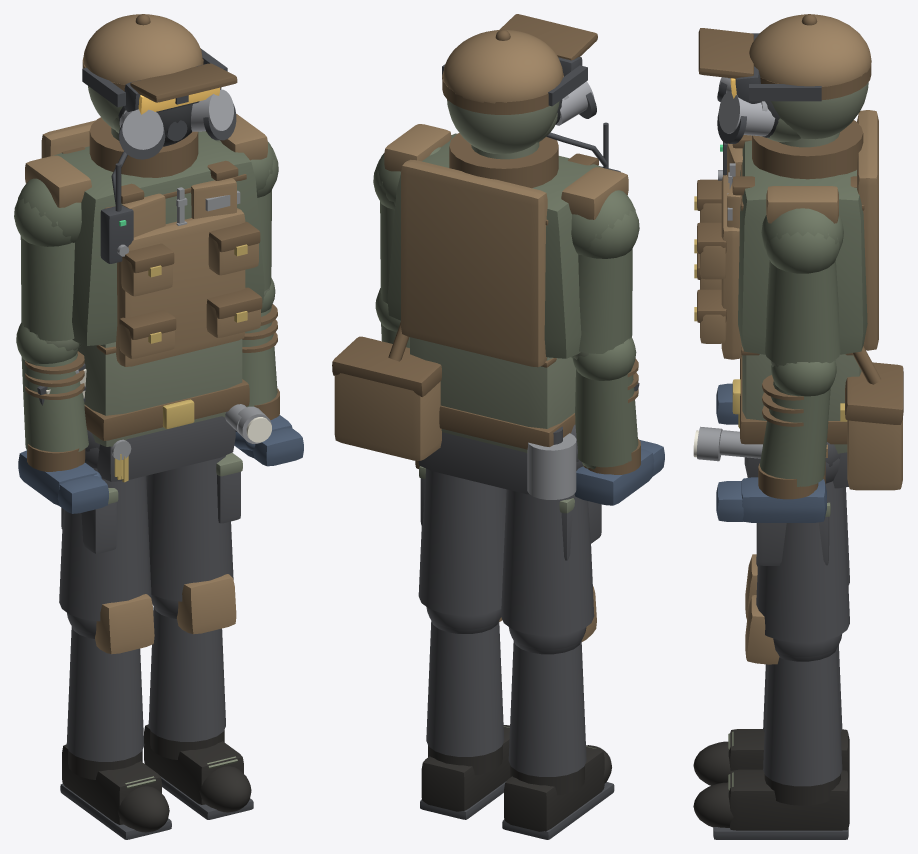
File: CH_trader_npc.fbx
3 views of the same model, side by side, from view 1: azimuth 30°, elevation 25°; view 2: azimuth 150°, elevation 25°; view 3: azimuth 270°, elevation 25° (orthographic). The views are drawn at different scales.
Parts seen in each view (by area): view 1: CH_trader_npc; view 2: CH_trader_npc; view 3: CH_trader_npc.
Part boxes in pixels (left/top/right/bottom): CH_trader_npc: left=14, top=14, right=303, bottom=839; CH_trader_npc: left=332, top=14, right=664, bottom=839; CH_trader_npc: left=693, top=14, right=903, bottom=839.
Size of the model in its own units: 0.6193 by 1.81 by 0.4346.
